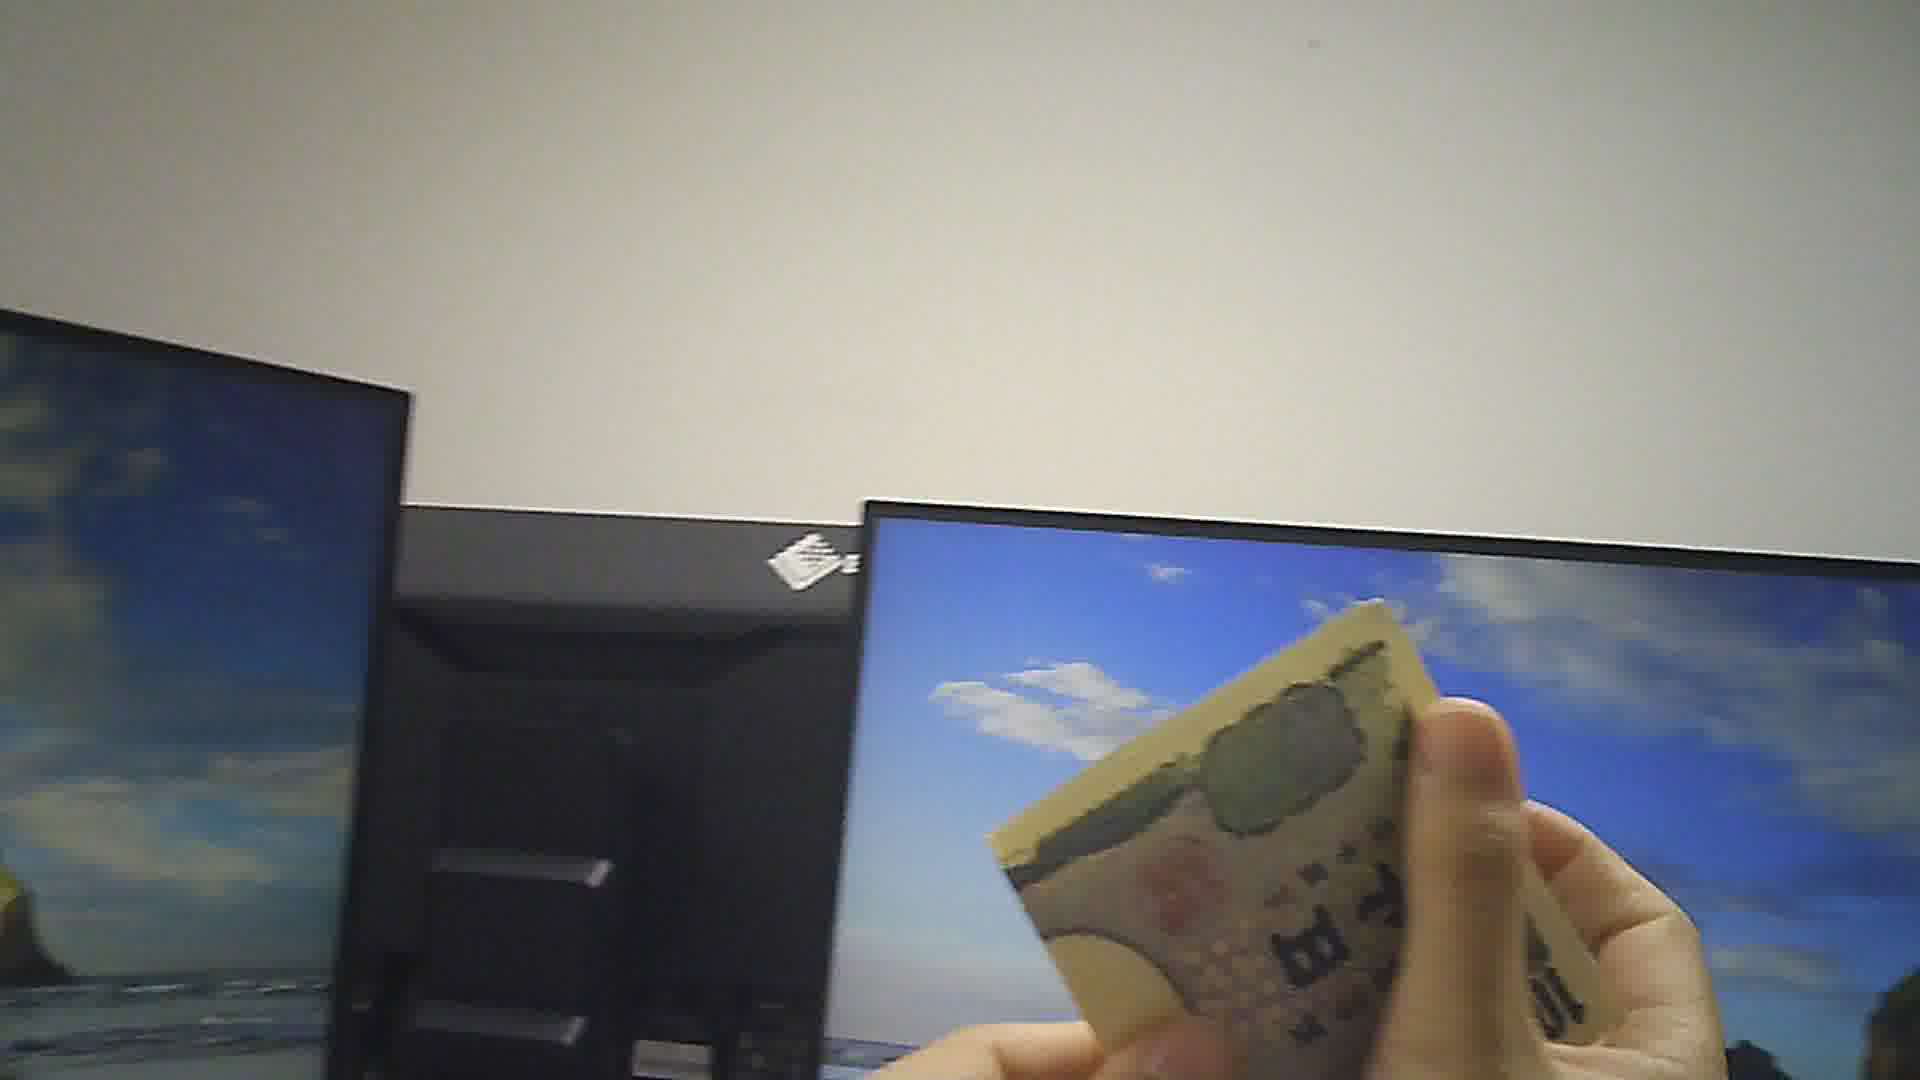1,000 Yen: (975, 611, 1607, 1079)
